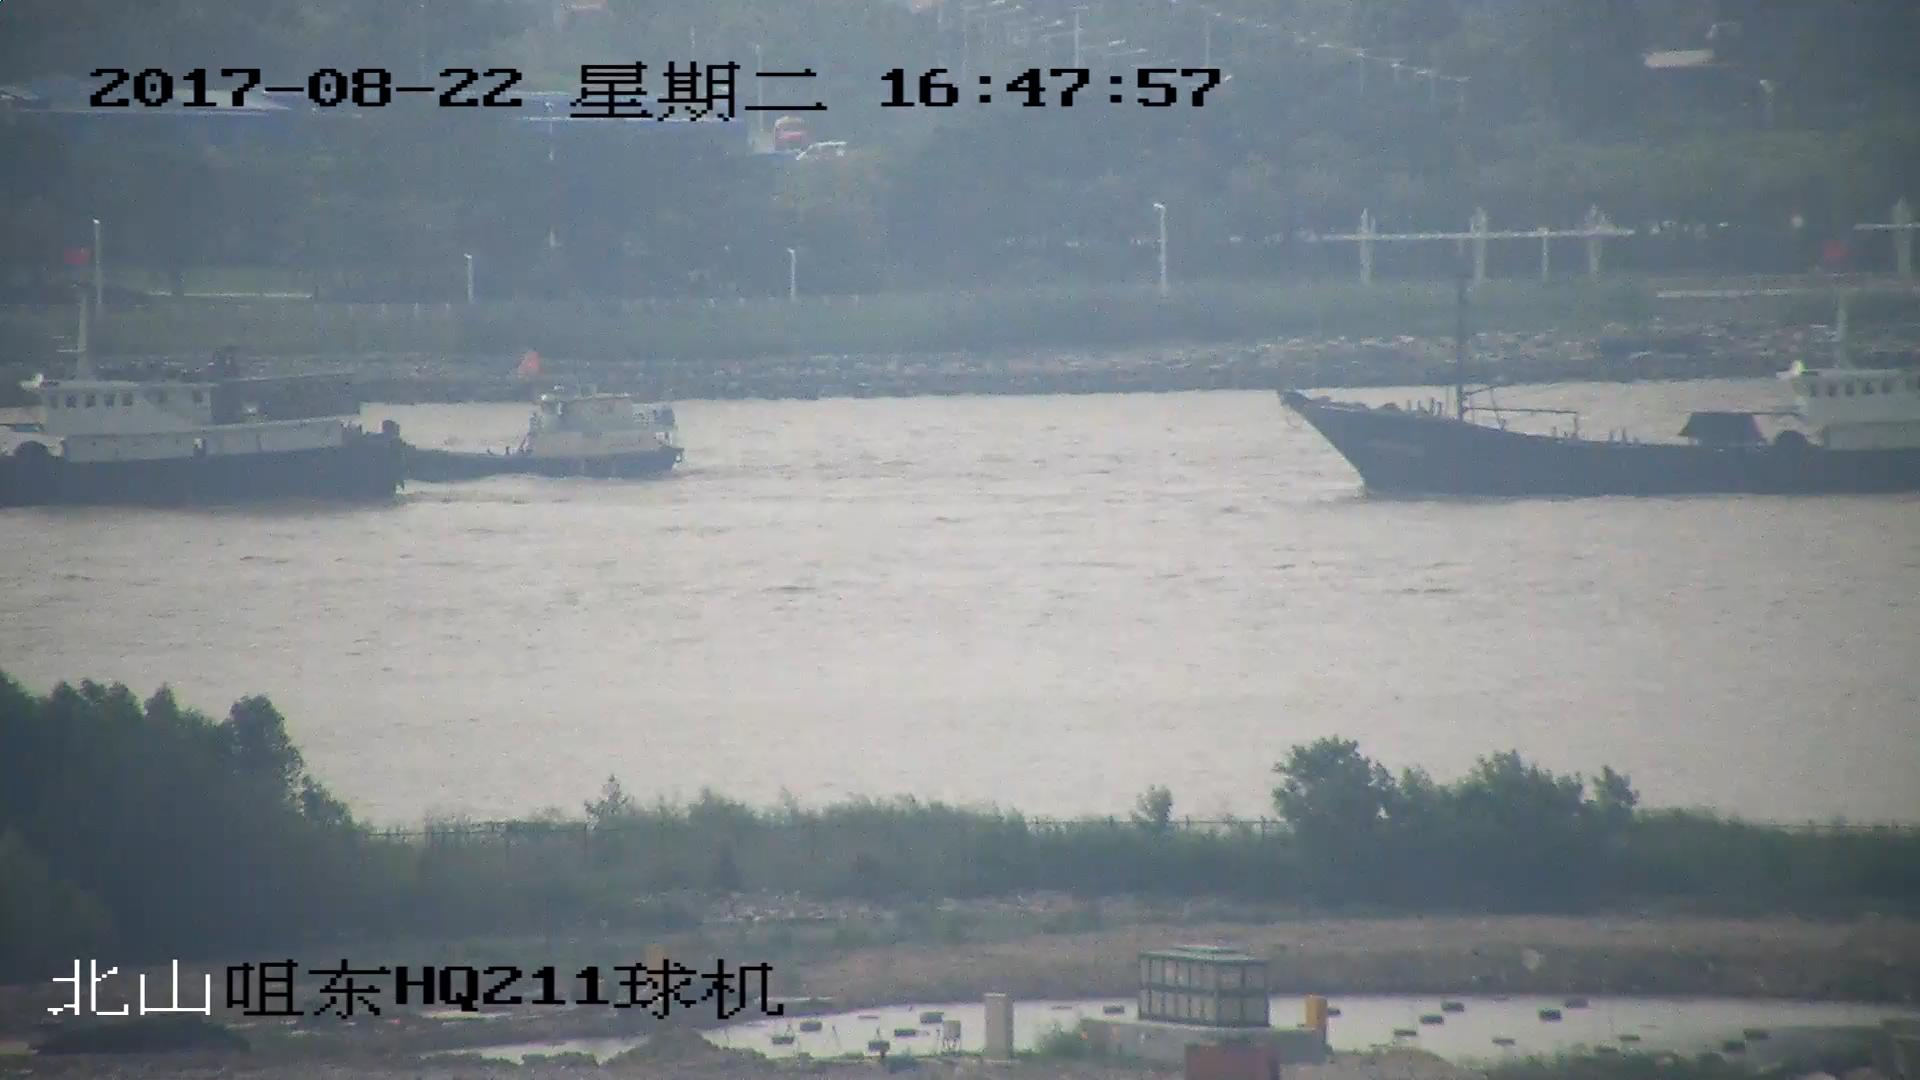fishing boat: (1278, 278, 1920, 505), (1, 251, 416, 508), (376, 350, 684, 480)
